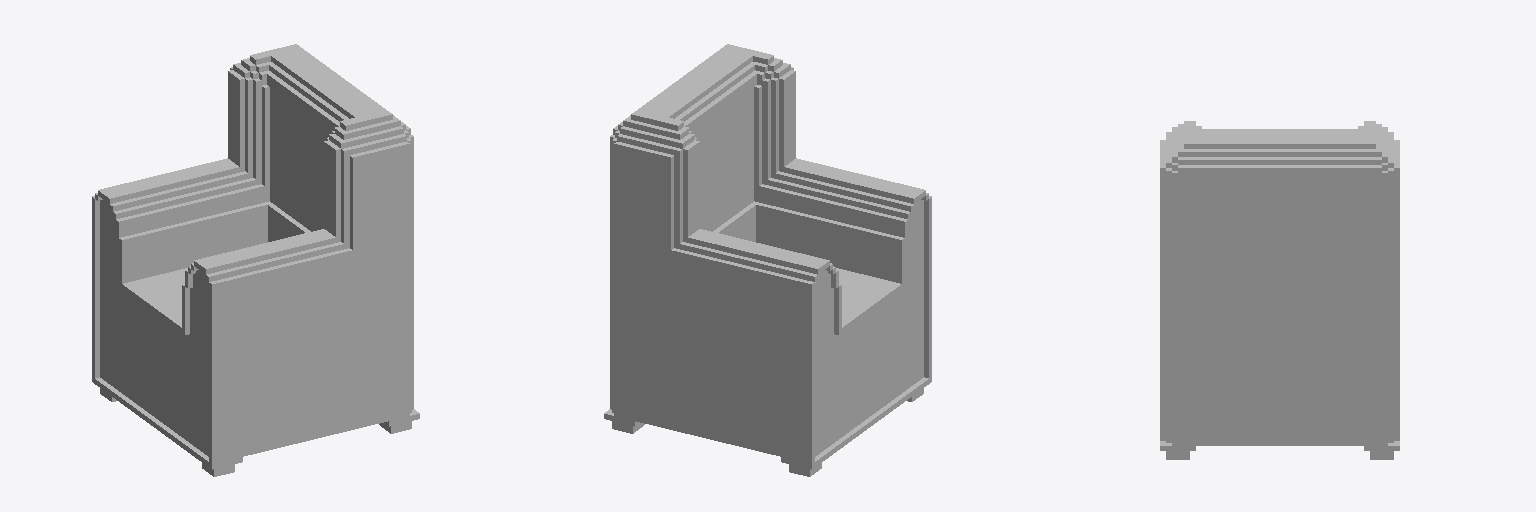
The model's file is armchair.obj.
3 renders of one model, left to right at view 1: azimuth 30°, elevation 25°; view 2: azimuth 150°, elevation 25°; view 3: azimuth 270°, elevation 25°, orthographic.
Visible parts, largest first — view 1: object 1; view 2: object 1; view 3: object 1.
Boxes of the visible parts, x1=… form: object 1: x1=92, y1=44, x2=419, y2=476; object 1: x1=604, y1=44, x2=931, y2=476; object 1: x1=1160, y1=121, x2=1399, y2=459.
Bounding box in the file's own units: 4 × 5.7 × 4.